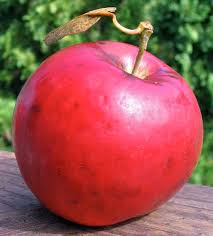apple: (11, 40, 205, 227)
